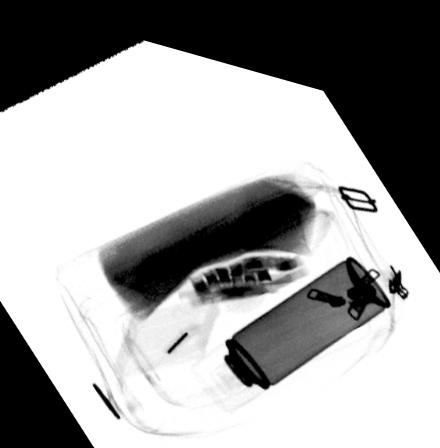Sprayer: (190, 233, 392, 401)
